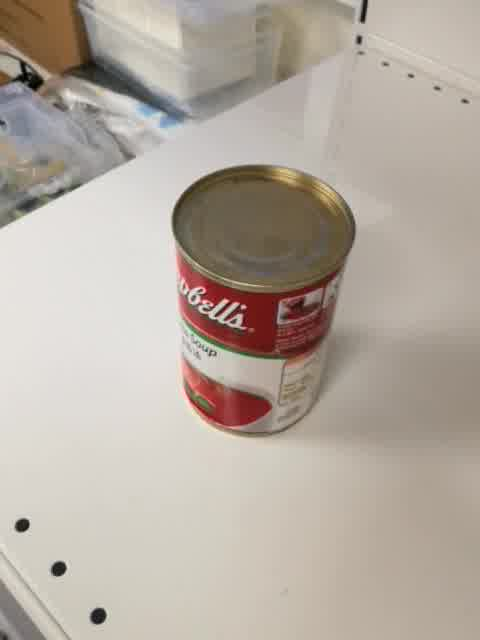tomatosoup: (171, 162, 356, 439)
